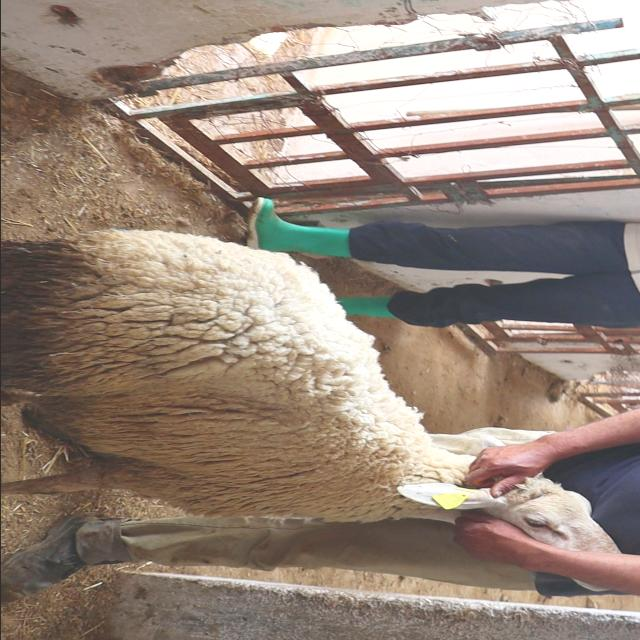Score_3: (1, 229, 619, 553)
